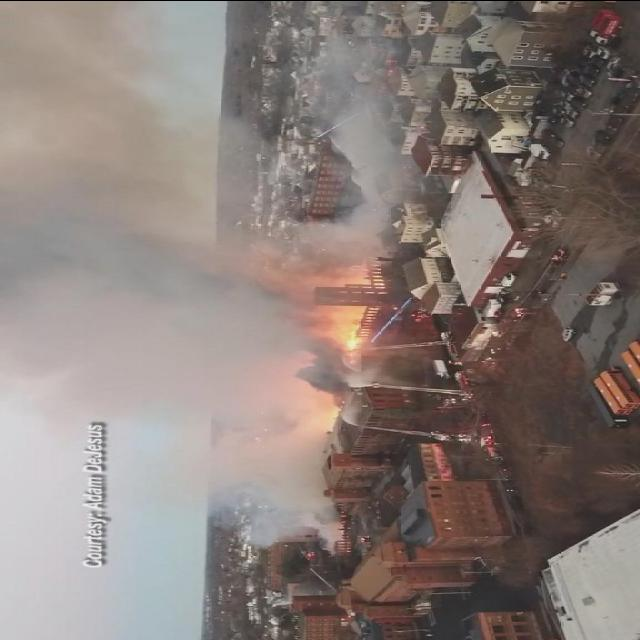Fire: (314, 307, 368, 362), (334, 270, 384, 289), (324, 404, 339, 431)
